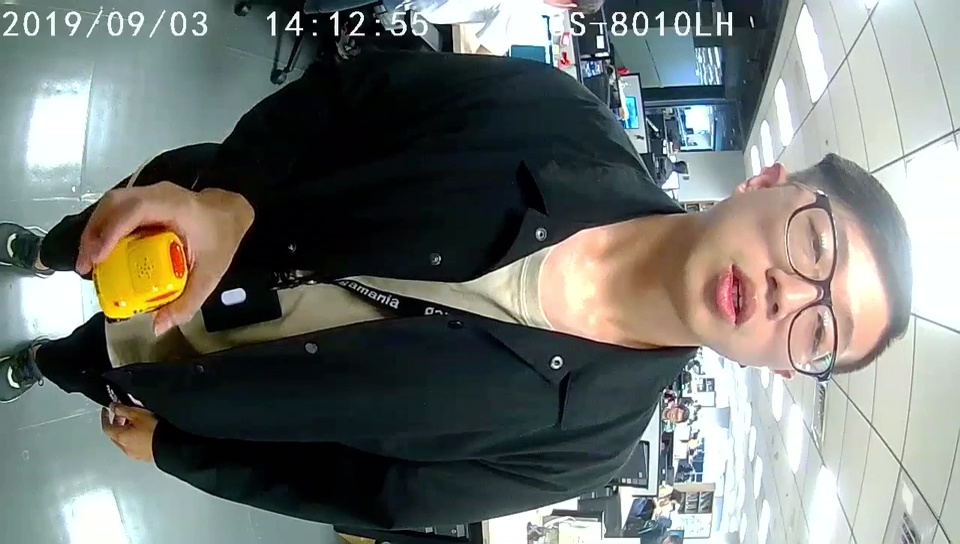car: (93, 230, 189, 319)
